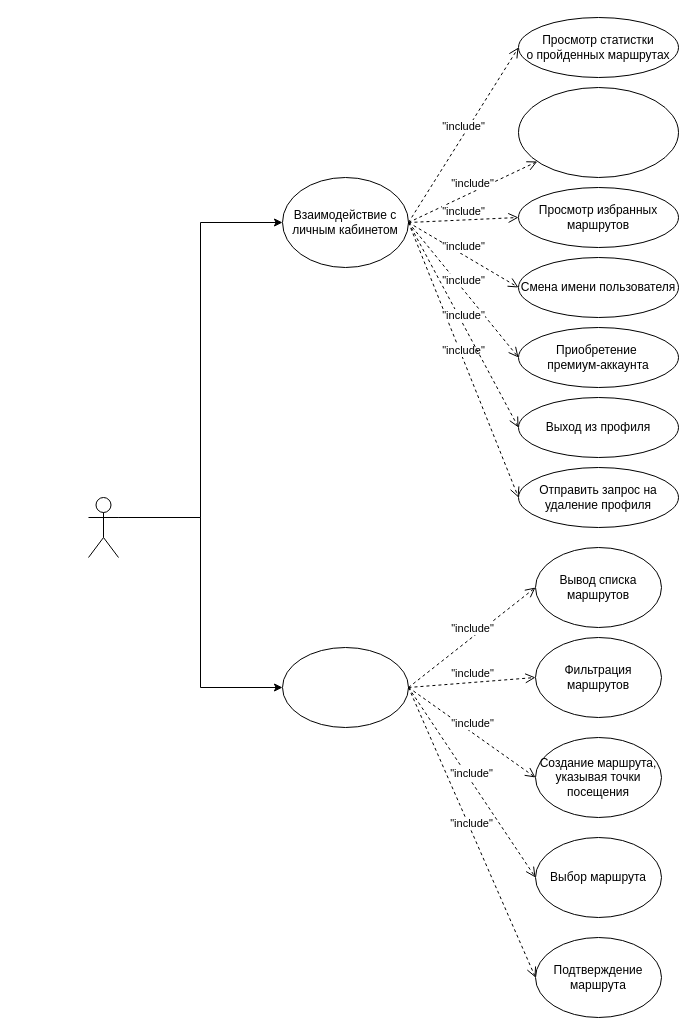
The diagram is 696 pixels wide and 1035 high, and some of its shapes have lost their labels. Each missing label, with the centre of its shape:
Авторизованный пользователь без подписки: point (103, 527)
Взаимодействие с маршрутами: point (345, 687)
Просмотр статистки о маршрутах, созданных пользователем: point (598, 132)
